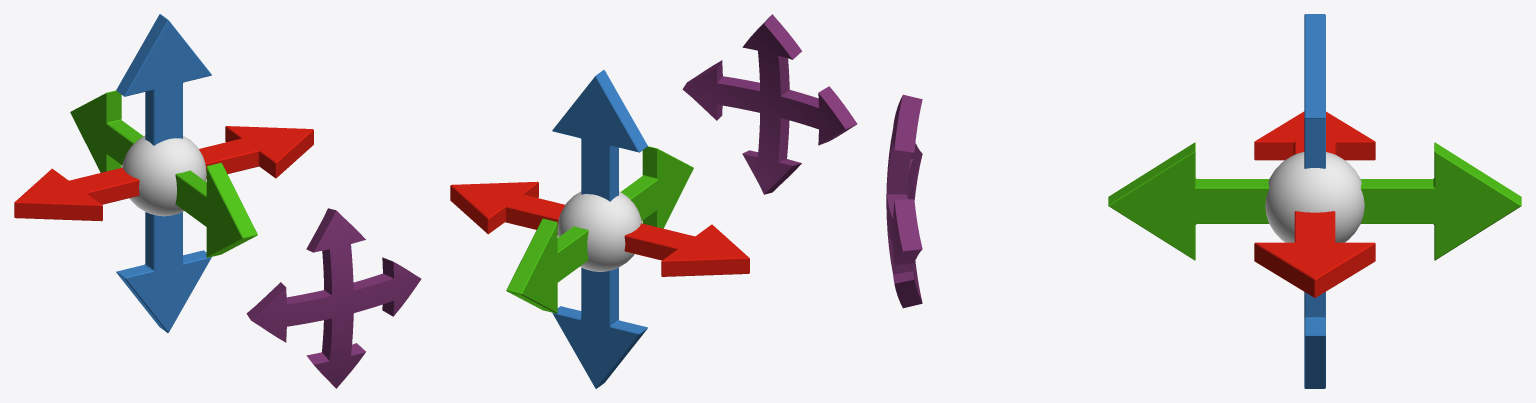
Rendered from cursors.glb.
3 views of the same model, side by side, from view 1: azimuth 30°, elevation 25°; view 2: azimuth 150°, elevation 25°; view 3: azimuth 270°, elevation 25° (orthographic). The views are drawn at different scales.
Parts seen in each view (by area): view 1: ZArrow, Rotate, XArrow, YArrow, Center; view 2: ZArrow, Rotate, XArrow, YArrow, Center; view 3: YArrow, XArrow, Center, Rotate, ZArrow.
Part boxes in pixels (x1,y1,x2,y2): ZArrow: (116, 14, 211, 332); Rotate: (246, 208, 421, 388); XArrow: (14, 126, 313, 221); YArrow: (70, 90, 257, 257); Center: (122, 135, 206, 216); ZArrow: (552, 70, 647, 388); Rotate: (682, 14, 857, 194); XArrow: (450, 181, 749, 276); YArrow: (506, 146, 693, 313); Center: (557, 191, 641, 271); YArrow: (1108, 142, 1521, 260); XArrow: (1254, 111, 1375, 297); Center: (1265, 152, 1364, 242); Rotate: (886, 94, 922, 308); ZArrow: (1304, 14, 1325, 388).
Size of the model in its own units: 2.02 by 2.02 by 3.11.
